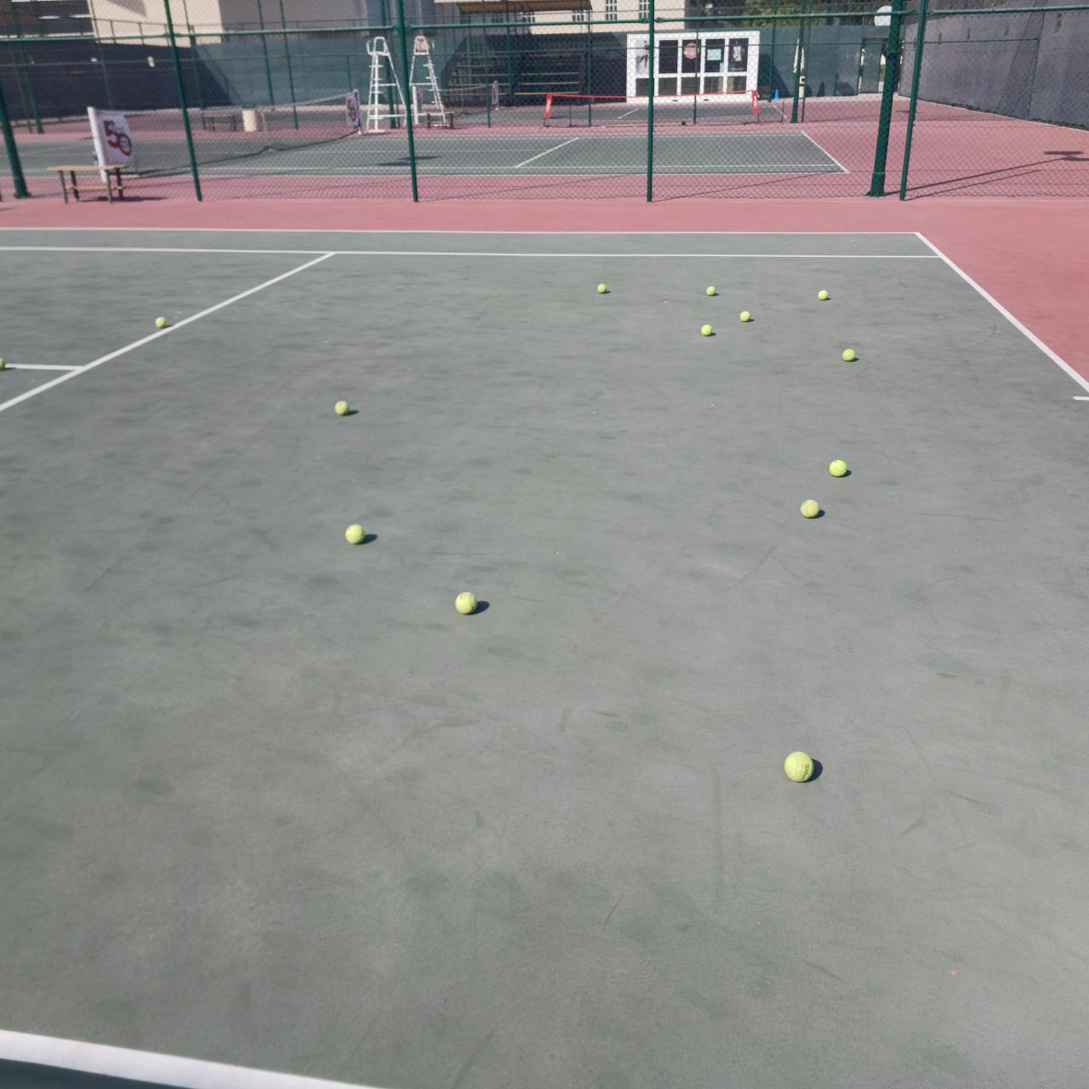tennis-ball: (782, 749, 814, 783), (453, 590, 476, 614), (343, 521, 363, 544), (800, 498, 820, 517), (829, 460, 847, 477), (334, 400, 349, 416), (841, 348, 856, 361), (817, 289, 830, 301), (701, 324, 713, 337), (739, 311, 751, 322), (706, 285, 716, 296), (155, 317, 165, 328), (597, 284, 606, 293), (0, 357, 5, 370)
